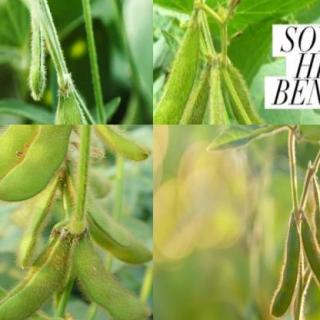soya: (73, 238, 151, 319), (0, 236, 72, 319), (0, 124, 72, 202), (153, 13, 199, 124), (14, 178, 59, 268), (90, 200, 152, 262), (228, 59, 278, 124), (269, 225, 301, 318), (153, 73, 209, 124), (0, 124, 45, 184), (64, 92, 126, 124), (94, 124, 149, 160), (302, 215, 319, 297), (29, 22, 46, 102), (199, 73, 221, 124), (313, 178, 319, 245)
